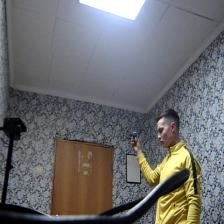drone: (126, 123, 143, 144)
